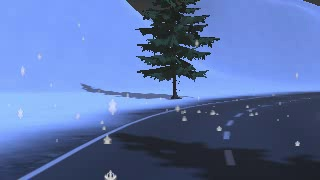Lane: (17, 91, 319, 179)
